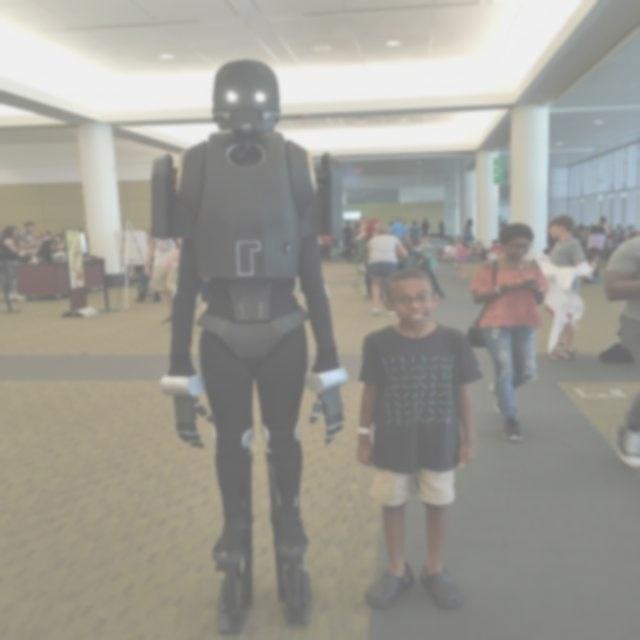pessoa: (134, 54, 356, 638), (356, 266, 489, 612), (463, 222, 553, 444), (600, 232, 639, 472), (532, 212, 588, 364), (362, 222, 410, 318), (142, 227, 187, 326), (0, 224, 37, 302), (350, 215, 382, 299), (585, 214, 612, 268), (414, 234, 440, 274), (605, 223, 639, 253), (13, 220, 43, 252), (37, 230, 65, 258), (452, 240, 472, 279), (581, 241, 600, 282), (388, 216, 412, 240), (568, 220, 590, 245), (407, 218, 422, 252), (486, 238, 507, 262), (462, 217, 476, 248), (442, 238, 458, 262), (320, 234, 334, 260), (468, 240, 486, 260), (342, 219, 354, 248), (436, 217, 446, 239), (420, 216, 430, 236), (353, 216, 366, 231), (388, 218, 393, 224), (401, 218, 408, 222)
